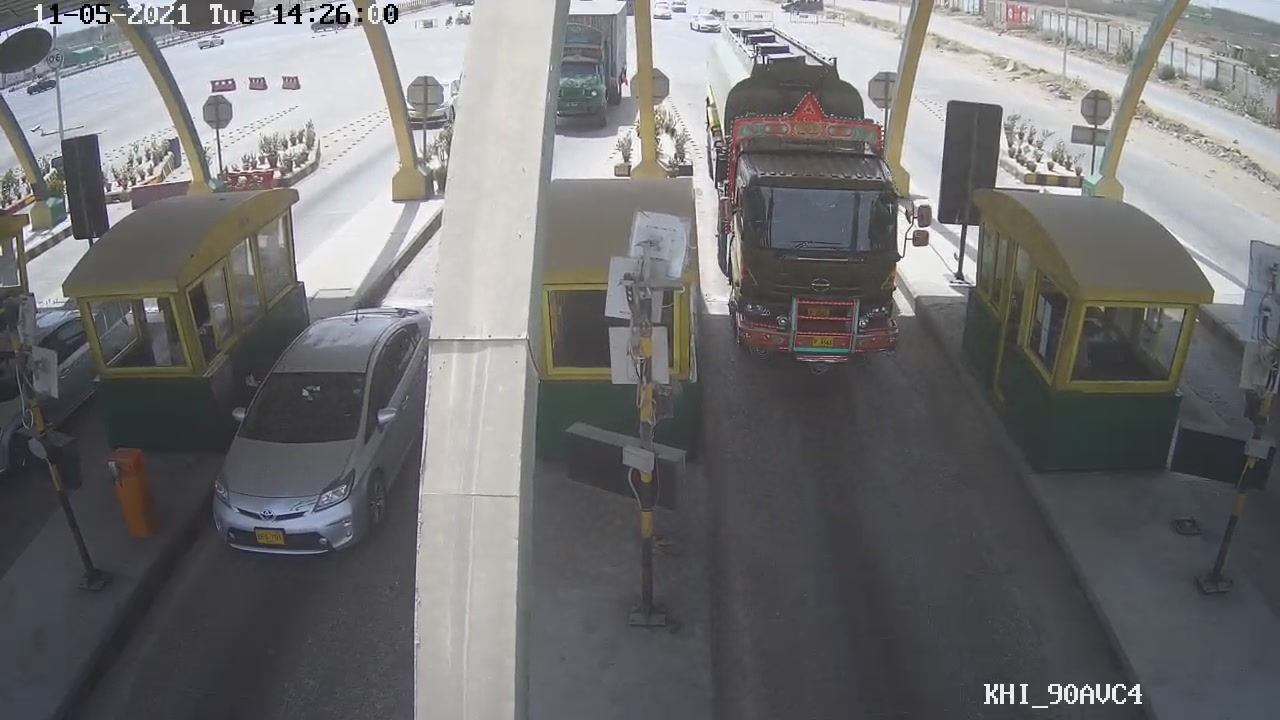F6: (705, 63, 934, 378)
